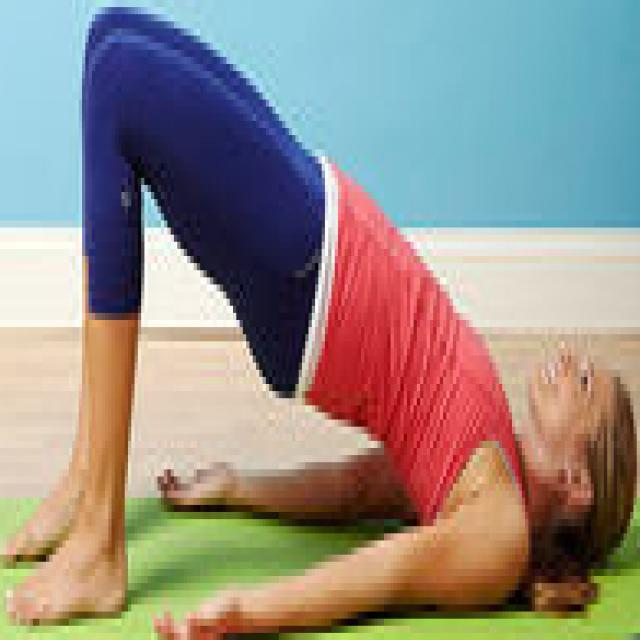yoga-pose bridge: (27, 8, 628, 632)
